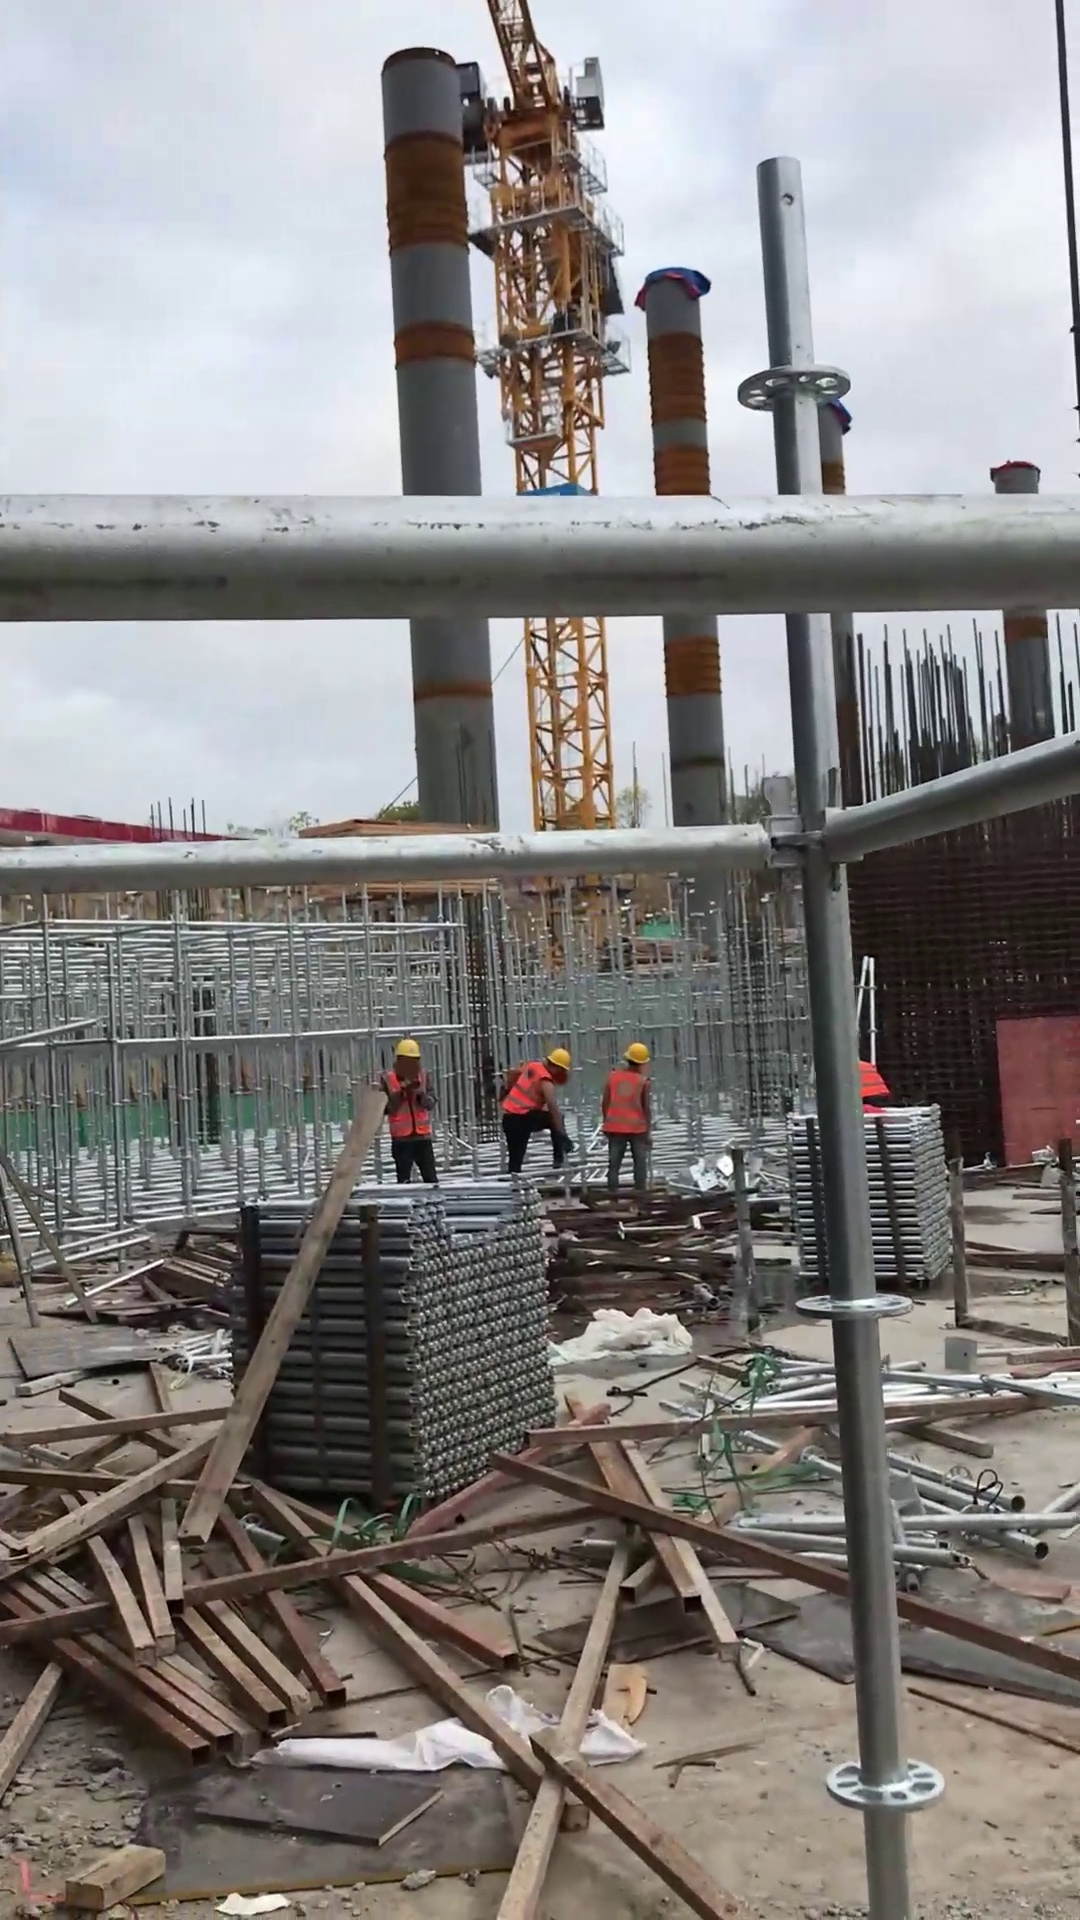helmet: (390, 1033, 423, 1062), (620, 1040, 651, 1069), (544, 1045, 573, 1071)
person: (499, 1042, 576, 1180), (597, 1040, 658, 1204), (378, 1034, 442, 1187)
vest: (379, 1063, 434, 1140), (602, 1068, 650, 1139), (499, 1060, 556, 1117), (857, 1056, 889, 1103)
